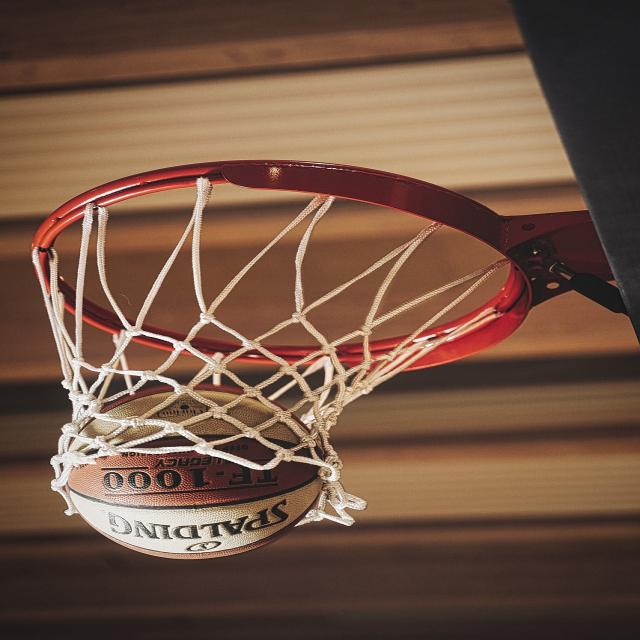Goal: (63, 385, 320, 560)
